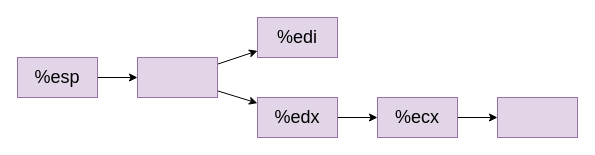
Some shapes in this 595 by 155 pixel diagram are drawn without their labels. Here are the shapes that lost their labels. From the top down, the centre of each, then its label:
At pixel 177 77: "%eax".
At pixel 537 117: "%esi".
